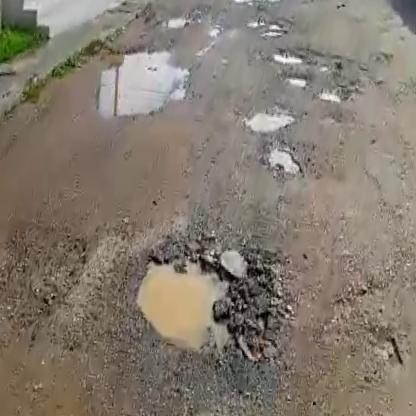pothole: (121, 231, 273, 366), (94, 37, 198, 128), (254, 136, 315, 182), (237, 101, 296, 140), (248, 13, 294, 38), (271, 44, 316, 67), (158, 10, 190, 33), (315, 88, 342, 109), (282, 71, 311, 87)
